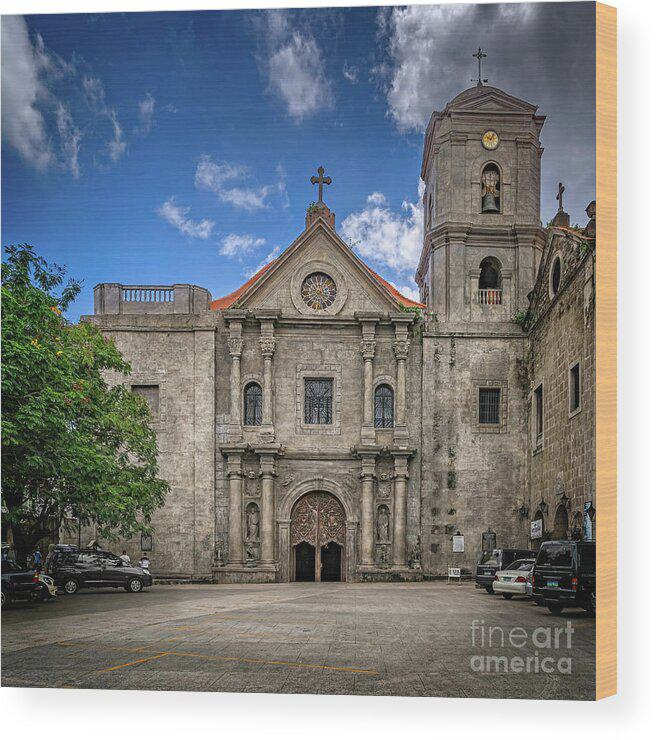san_agustin_church_intramuros_manila: (203, 42, 547, 584)
